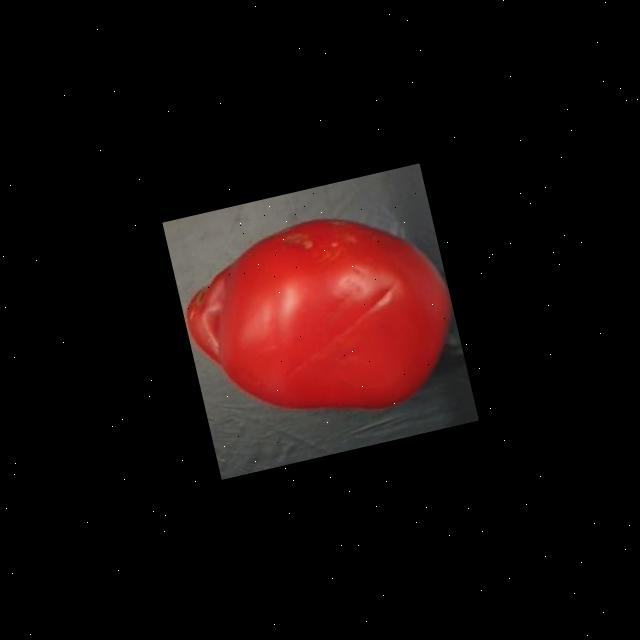tomato: (168, 188, 473, 455)
